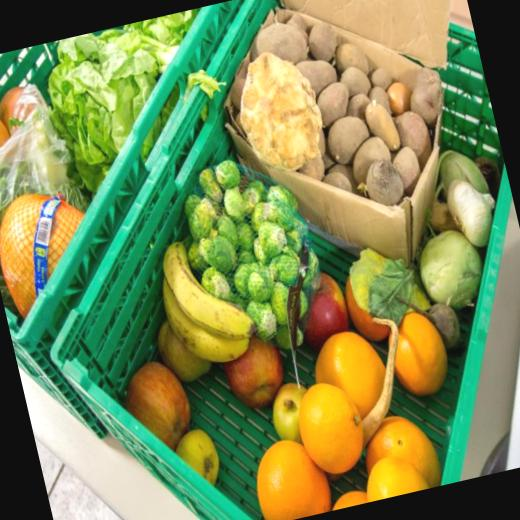Grape: (287, 376, 372, 478), (304, 324, 394, 420), (245, 431, 335, 520), (381, 300, 452, 396), (367, 408, 442, 490), (358, 454, 428, 502), (333, 482, 373, 508)
